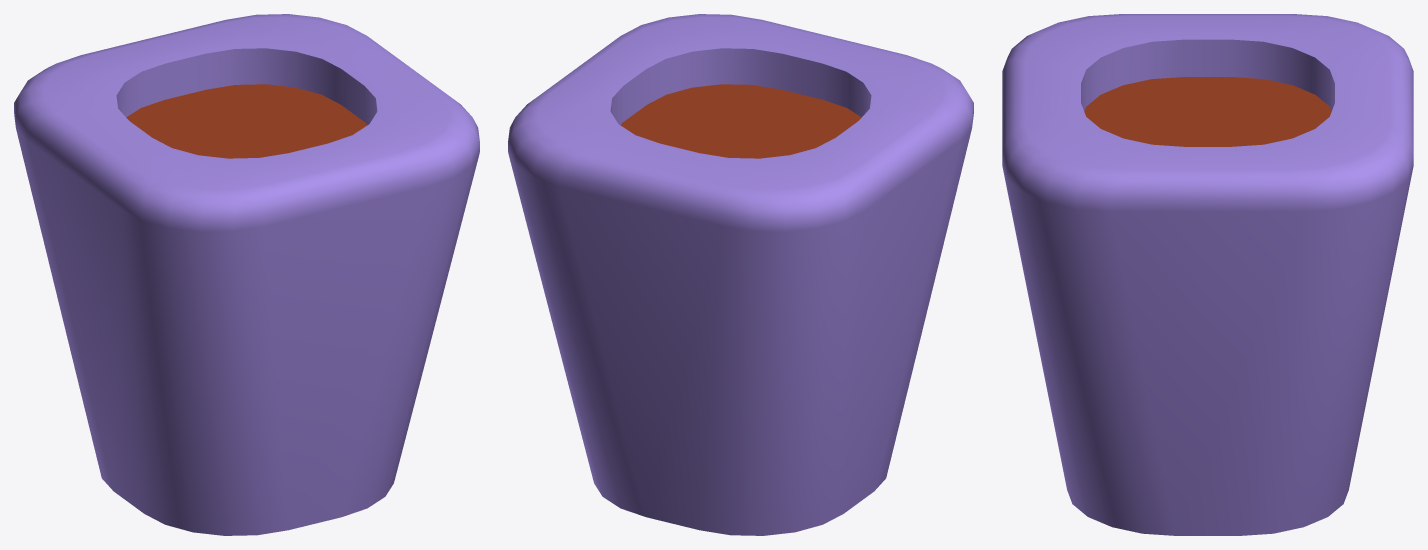
File: Empty_Plant_Pot.fbx
The picture shows the model from 3 angles, left to right: view 1: azimuth 30°, elevation 25°; view 2: azimuth 150°, elevation 25°; view 3: azimuth 270°, elevation 25°; orthographic projection. The views are drawn at different scales.
Parts seen in each view (by area): view 1: Empty Plant Pot; view 2: Empty Plant Pot; view 3: Empty Plant Pot.
Part boxes in pixels (<box>): Empty Plant Pot: <box>14,14,479,535</box>; Empty Plant Pot: <box>508,14,973,535</box>; Empty Plant Pot: <box>1002,14,1413,535</box>.
Bounding box in the file's own units: 29.18 × 30 × 29.18.
